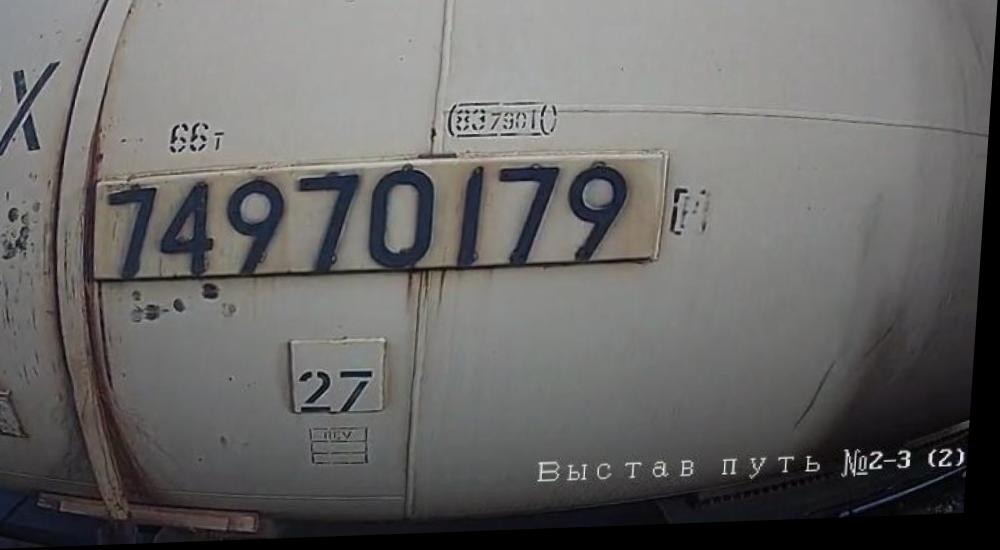Wagon-number: (100, 162, 654, 283)
